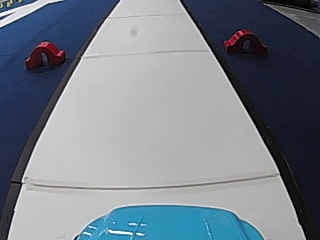bridge: (23, 37, 66, 70), (222, 25, 268, 55)
